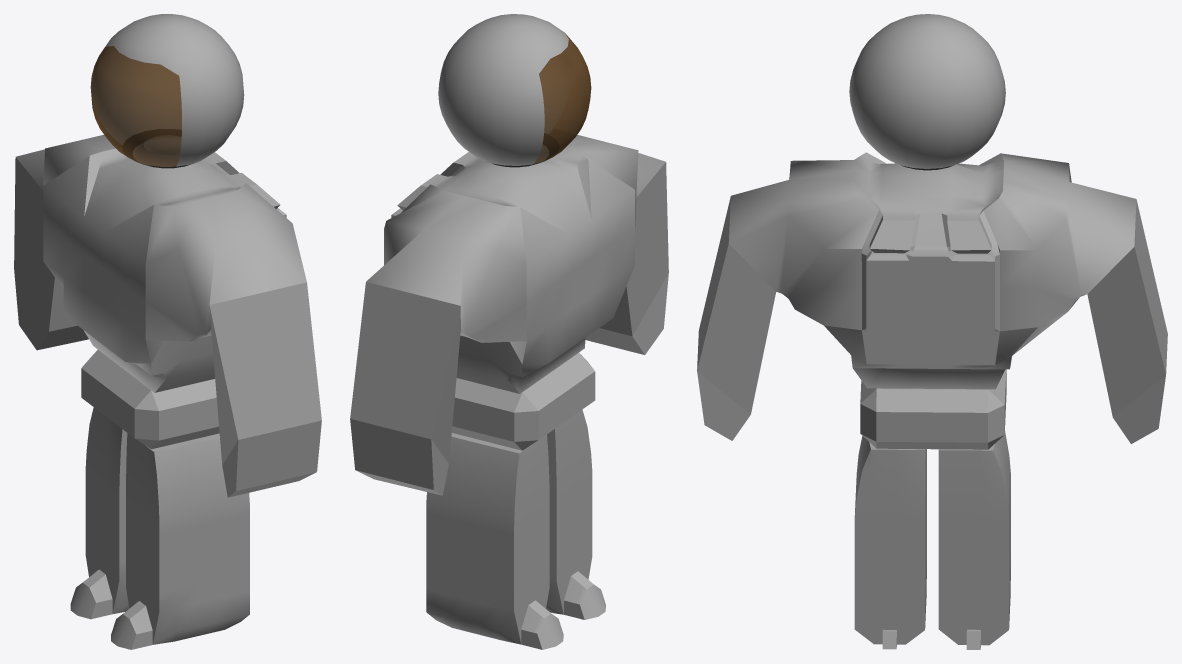
File: eva suit.fbx
3 renders of one model, left to right at view 1: azimuth 30°, elevation 25°; view 2: azimuth 150°, elevation 25°; view 3: azimuth 270°, elevation 25°, orthographic.
Visible parts, largest first — view 1: pasted__pasted__pasted__pCube1, pasted__pasted__pasted__pCube4, pasted__pasted__pSphere1, pasted__pasted__pasted__pCube3, pasted__pasted__pasted__pCube2; view 2: pasted__pasted__pasted__pCube1, pasted__pasted__pasted__pCube3, pasted__pasted__pSphere1, pasted__pasted__pasted__pCube4, pasted__pasted__pasted__pCube2; view 3: pasted__pasted__pasted__pCube1, pasted__pasted__pSphere1, pasted__pasted__pasted__pCube3, pasted__pasted__pasted__pCube4, pasted__pasted__pasted__pCube2.
Boxes of the visible parts, x1=… form: pasted__pasted__pasted__pCube1: x1=14, y1=135, x2=321, y2=497; pasted__pasted__pasted__pCube4: x1=111, y1=433, x2=249, y2=649; pasted__pasted__pSphere1: x1=90, y1=14, x2=244, y2=168; pasted__pasted__pasted__pCube3: x1=70, y1=407, x2=129, y2=619; pasted__pasted__pasted__pCube2: x1=81, y1=350, x2=219, y2=449; pasted__pasted__pasted__pCube1: x1=350, y1=135, x2=668, y2=495; pasted__pasted__pasted__pCube3: x1=426, y1=433, x2=563, y2=649; pasted__pasted__pSphere1: x1=438, y1=14, x2=591, y2=167; pasted__pasted__pasted__pCube4: x1=546, y1=409, x2=605, y2=619; pasted__pasted__pasted__pCube2: x1=451, y1=353, x2=595, y2=450; pasted__pasted__pasted__pCube1: x1=697, y1=152, x2=1167, y2=443; pasted__pasted__pSphere1: x1=849, y1=14, x2=1005, y2=170; pasted__pasted__pasted__pCube3: x1=938, y1=431, x2=1010, y2=649; pasted__pasted__pasted__pCube4: x1=854, y1=436, x2=926, y2=649; pasted__pasted__pasted__pCube2: x1=860, y1=369, x2=1006, y2=449.
Size of the model in its own units: 1.59 by 5.56 by 3.95.
